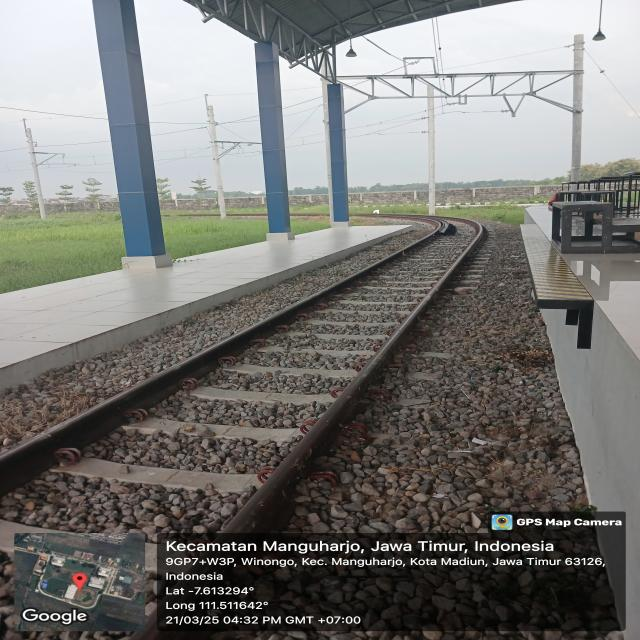rail-detection: (0, 216, 457, 496), (224, 219, 486, 533)
